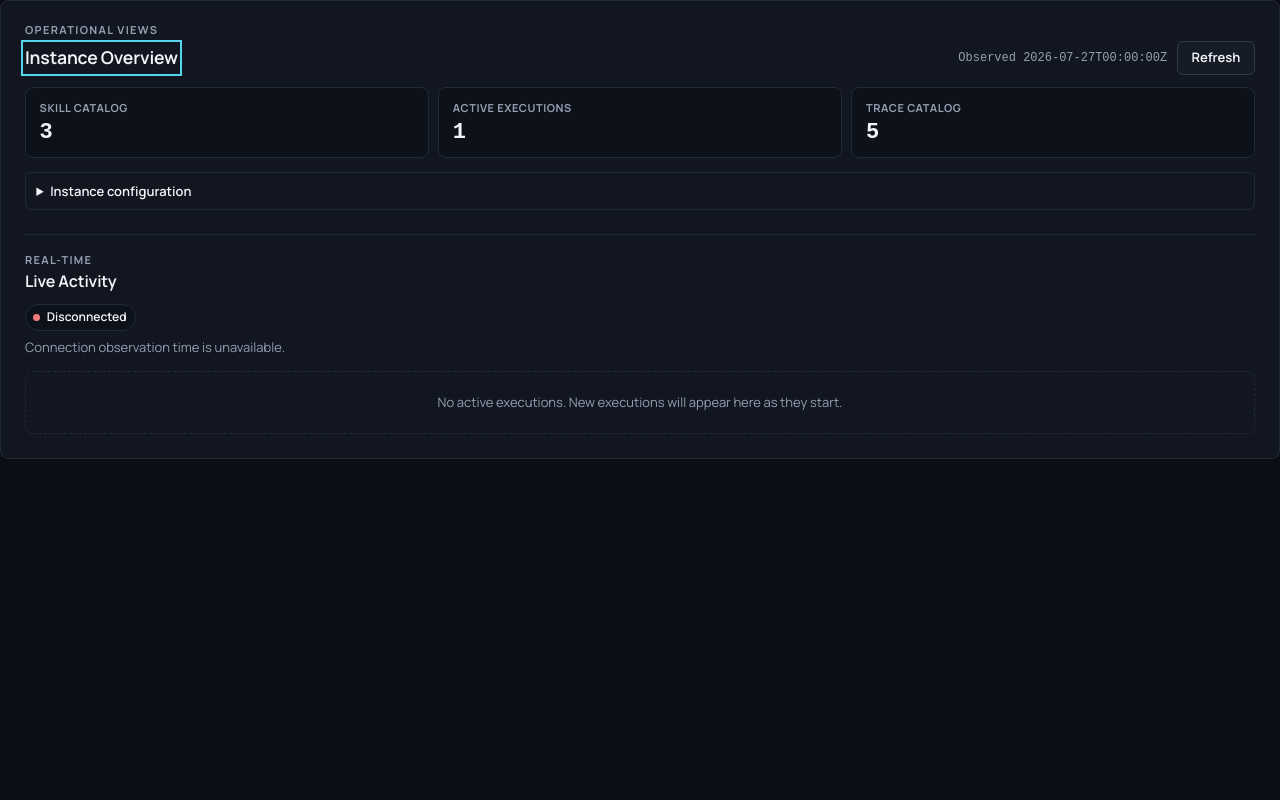
Test case: overview collapses static configuration facts behind a disclosure
expect the text "1.0.0-beta.9-SNAPSHOT" is not shown: met
expect the text "PERSISTENT" is not shown: met
Click the heading "Instance configuration".
click(121, 191)  # box [50,182,192,200]
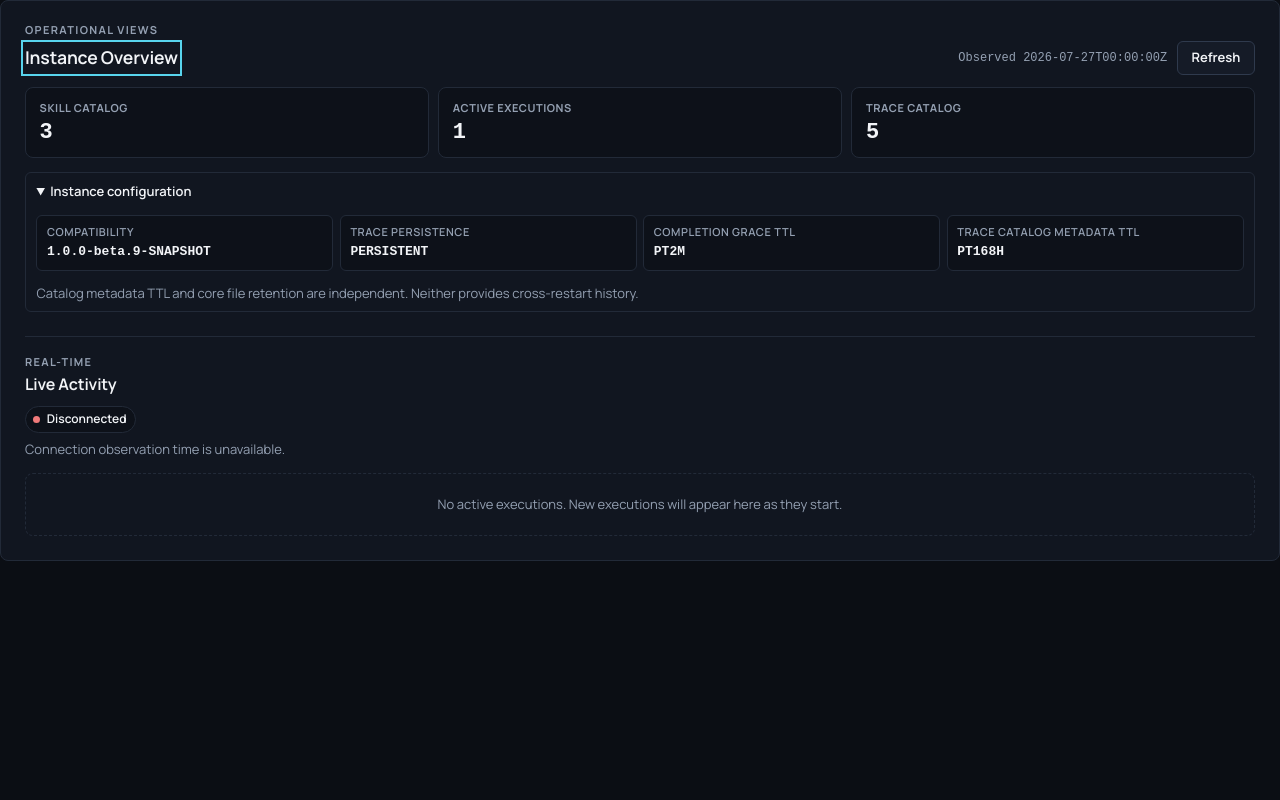
expect the text "1.0.0-beta.9-SNAPSHOT" is shown: met, box [47,244,211,260]
expect the text "PERSISTENT" is shown: met, box [350,244,428,260]
expect the text "PT2M" is shown: met, box [654,244,685,260]
